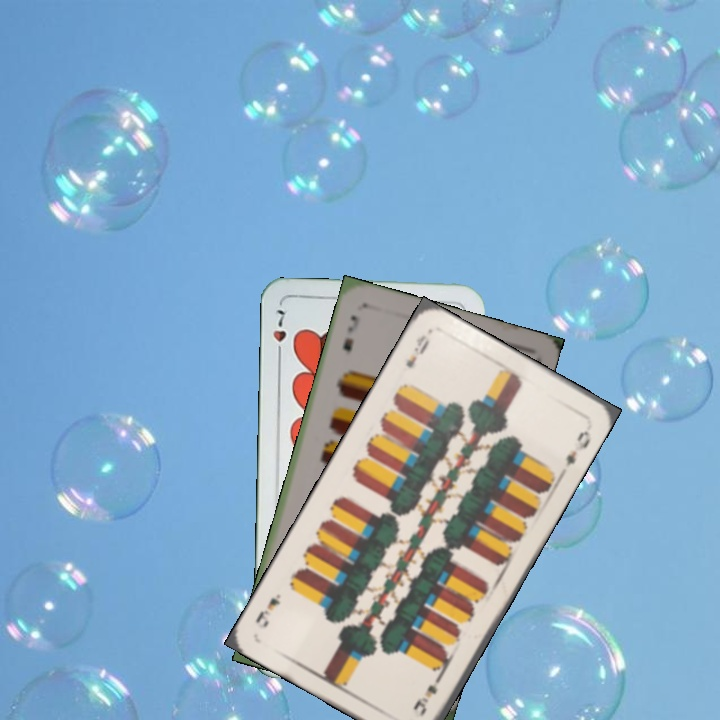E7: (338, 311, 362, 355)
E9: (402, 330, 433, 371), (410, 680, 440, 719)
H7: (269, 303, 289, 361)
